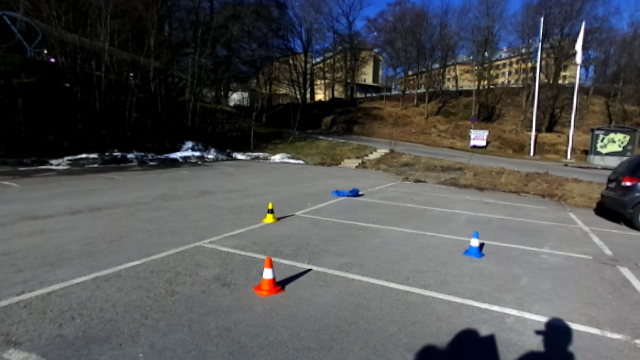blue: (463, 230, 486, 260)
orange: (254, 255, 286, 298)
yellow: (259, 200, 280, 225)
